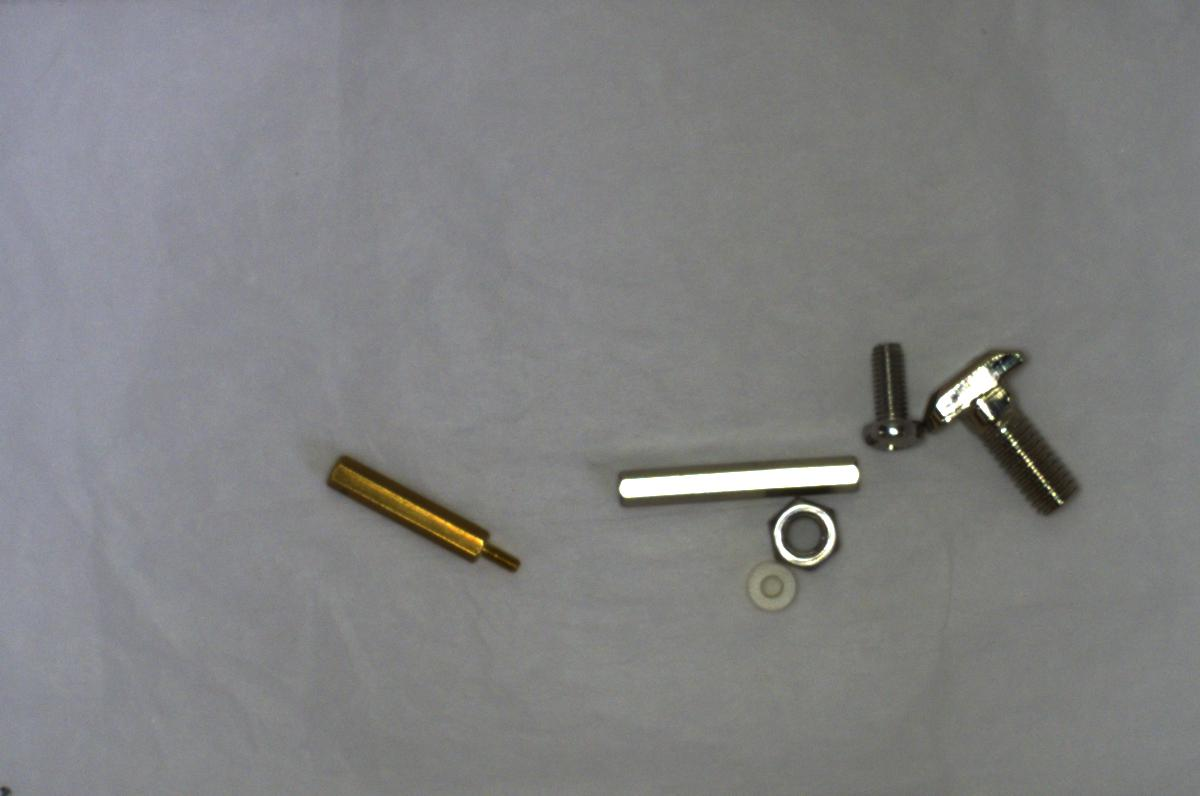Double hexagonal column: (602, 454, 872, 506)
Hexagon nut: (764, 502, 846, 572)
Hexagon pillar: (315, 455, 532, 579)
Plastic cushion pillar: (733, 558, 801, 612)
Round head screw: (853, 328, 925, 465)
T-shaped screw: (930, 340, 1082, 520)
